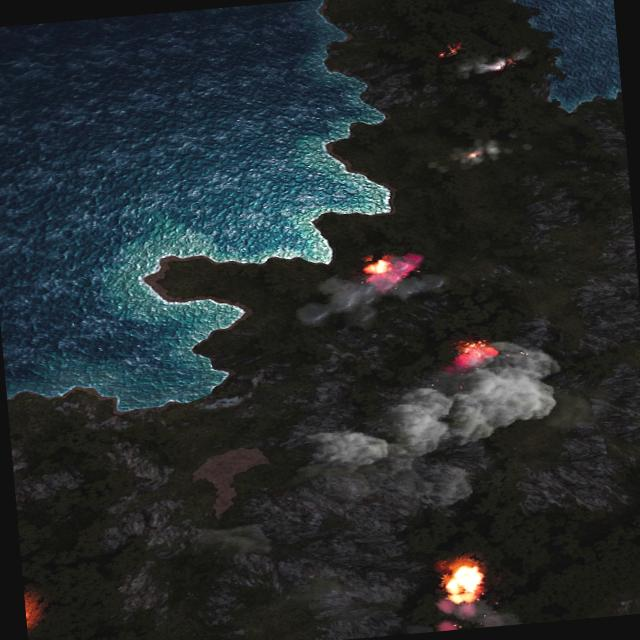fire: (360, 252, 428, 292), (439, 561, 486, 606), (450, 337, 500, 368), (23, 594, 37, 630), (434, 44, 461, 59), (466, 152, 480, 160)
smoke: (292, 342, 566, 524), (290, 262, 448, 333), (399, 595, 527, 634), (452, 46, 532, 80), (446, 137, 514, 168)
